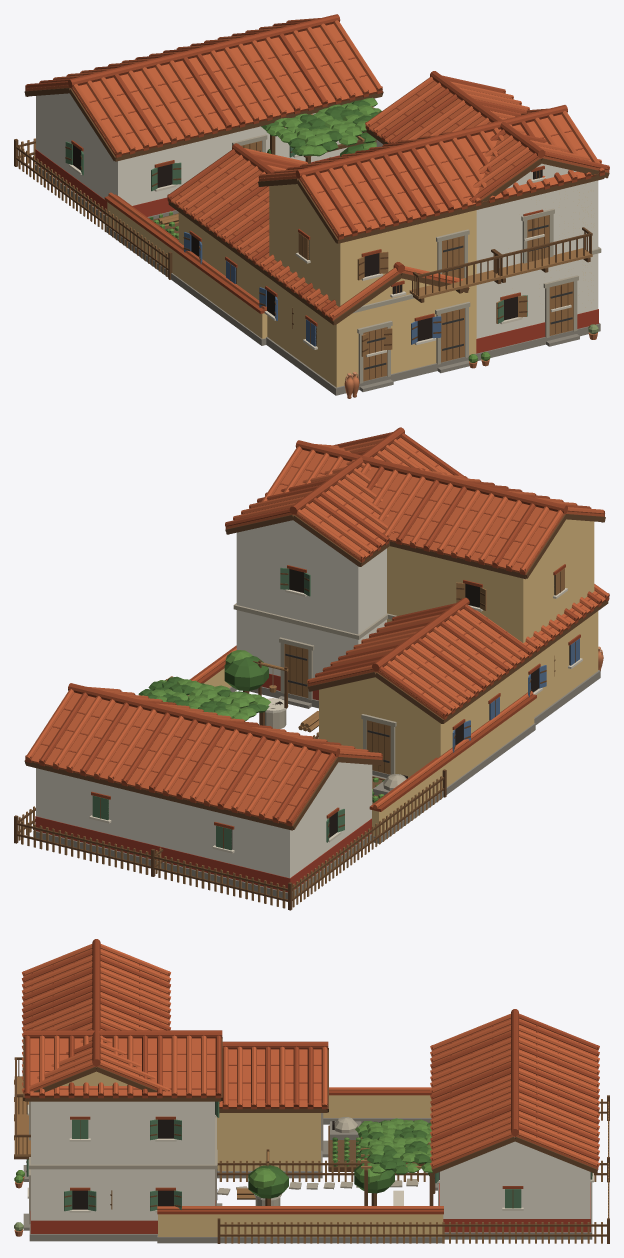
Rendered from Langhaus.fbx.
3 views of the same model, one above another, from view 1: azimuth 30°, elevation 25°; view 2: azimuth 150°, elevation 25°; view 3: azimuth 270°, elevation 25° (orthographic). The views are drawn at different scales.
Visible parts, largest first — view 1: Langhaus_0, Langhaus_1; view 2: Langhaus_0, Langhaus_1; view 3: Langhaus_0, Langhaus_1.
Boxes of the visible parts, bbox=[...] form: Langhaus_0: bbox=[24, 14, 604, 397]; Langhaus_1: bbox=[14, 71, 609, 398]; Langhaus_0: bbox=[24, 440, 605, 899]; Langhaus_1: bbox=[14, 427, 609, 910]; Langhaus_0: bbox=[14, 939, 599, 1243]; Langhaus_1: bbox=[14, 1030, 609, 1243].
Bounding box in the file's own units: 3.63 × 2.48 × 7.3.
